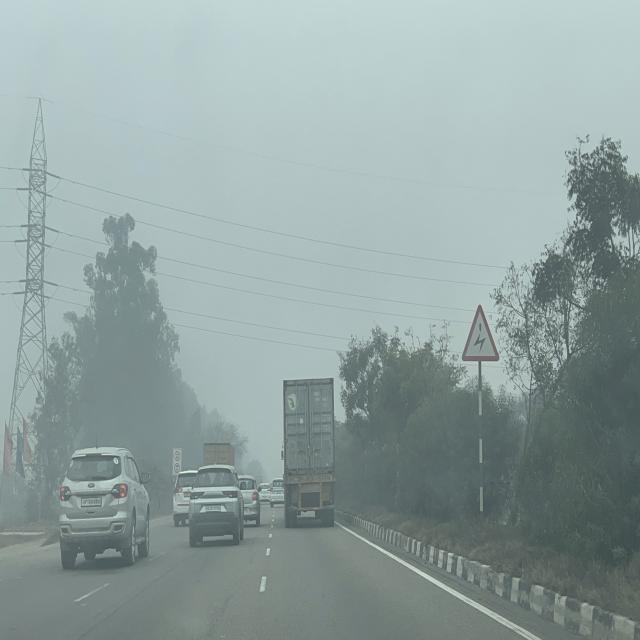WARNING: (460, 303, 500, 364)
